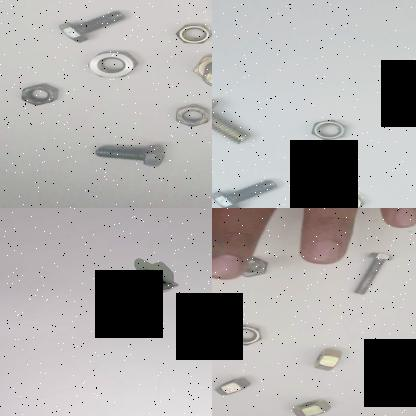Bolts: (50, 1, 130, 44), (88, 138, 172, 170), (212, 173, 284, 208), (344, 249, 394, 298), (212, 91, 256, 144), (136, 266, 180, 292), (188, 48, 212, 88)
NUTS: (82, 48, 142, 82), (16, 76, 62, 110), (306, 114, 358, 142), (219, 322, 268, 347), (171, 101, 212, 130), (170, 19, 212, 47), (212, 375, 257, 401), (308, 343, 346, 373), (289, 395, 337, 416), (324, 183, 364, 208)
